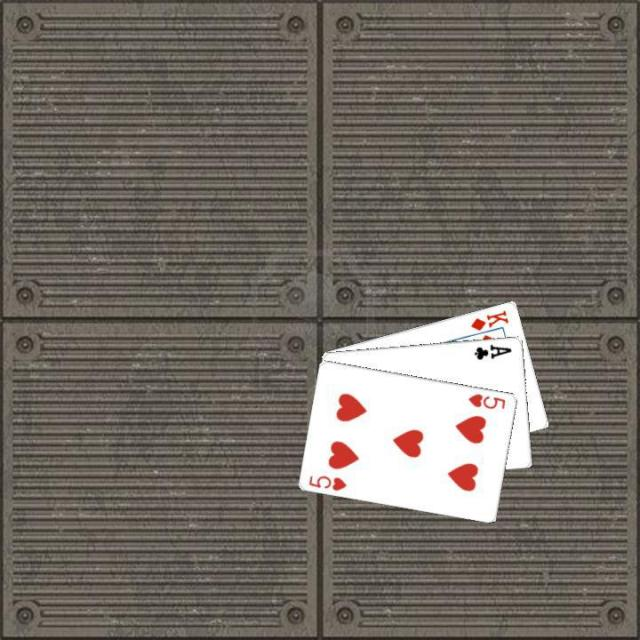5H: (305, 471, 348, 493), (465, 389, 507, 411)
AC: (471, 340, 513, 361)
KD: (467, 306, 510, 332)
